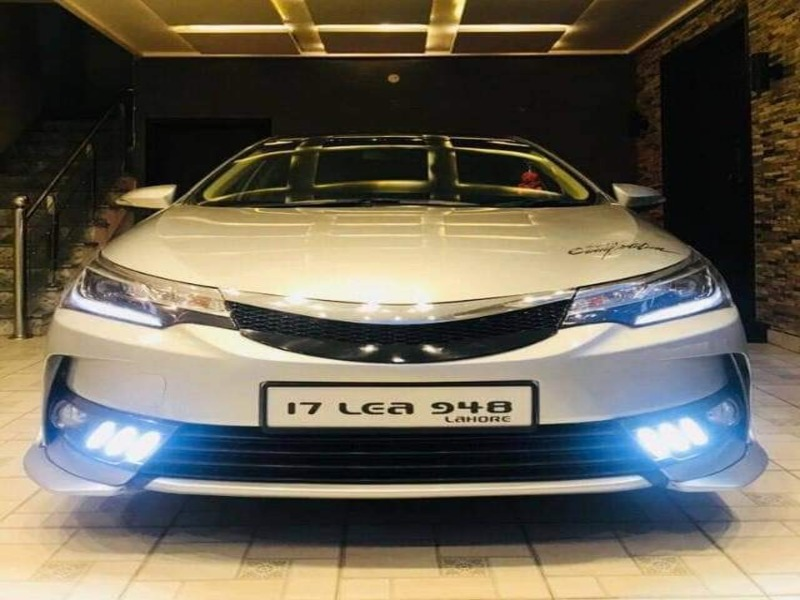License Plate: (257, 378, 544, 433)
